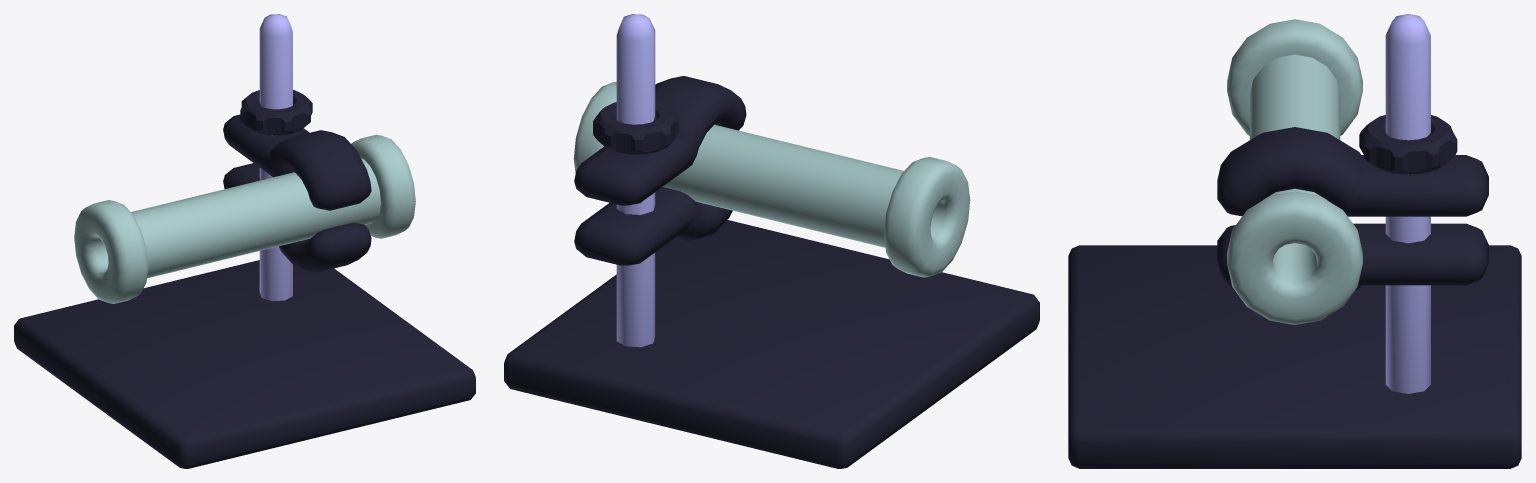
File: LastLuna_Model_Station_Pipe.fbx
3 renders of one model, left to right at view 1: azimuth 30°, elevation 25°; view 2: azimuth 150°, elevation 25°; view 3: azimuth 270°, elevation 25°, orthographic. The views are drawn at different scales.
Visible parts, largest first — view 1: Stand_Base_Small001, Pipe001, Pipe_Arm_Clamp_Upper001, Stand_Pole_Small001, Pipe_Arm_Clamp_Lower001, Pipe_Arm_Clamp_Handle001; view 2: Stand_Base_Small001, Pipe001, Pipe_Arm_Clamp_Upper001, Stand_Pole_Small001, Pipe_Arm_Clamp_Lower001, Pipe_Arm_Clamp_Handle001; view 3: Stand_Base_Small001, Pipe001, Pipe_Arm_Clamp_Upper001, Stand_Pole_Small001, Pipe_Arm_Clamp_Lower001, Pipe_Arm_Clamp_Handle001.
Boxes of the visible parts, x1,y1,x2,y2 form: Stand_Base_Small001: (14,260,475,468); Pipe001: (74,134,415,303); Pipe_Arm_Clamp_Upper001: (223,114,371,210); Stand_Pole_Small001: (259,14,292,301); Pipe_Arm_Clamp_Lower001: (223,163,371,272); Pipe_Arm_Clamp_Handle001: (240,90,312,135); Stand_Base_Small001: (504,220,1039,468); Pipe001: (573,82,970,277); Pipe_Arm_Clamp_Upper001: (574,76,746,205); Stand_Pole_Small001: (616,14,655,347); Pipe_Arm_Clamp_Lower001: (574,187,732,265); Pipe_Arm_Clamp_Handle001: (593,102,679,154); Stand_Base_Small001: (1068,245,1521,468); Pipe001: (1227,19,1362,324); Pipe_Arm_Clamp_Upper001: (1217,127,1488,216); Stand_Pole_Small001: (1385,14,1430,393); Pipe_Arm_Clamp_Lower001: (1217,223,1488,290); Pipe_Arm_Clamp_Handle001: (1359,115,1457,174).
Bounding box in the file's own units: 100 × 100 × 100.
